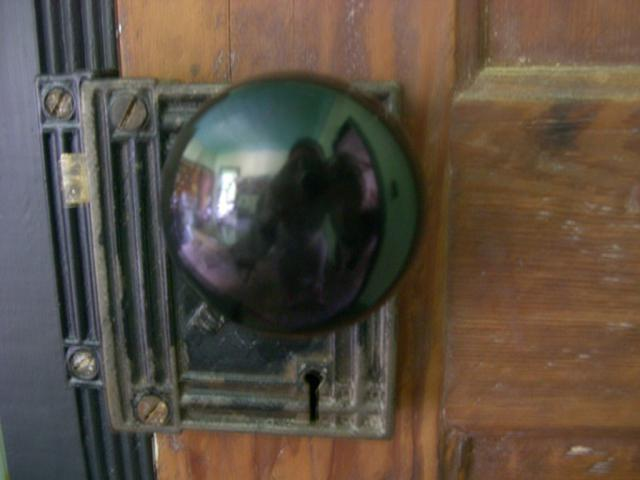Door-handle: (80, 71, 423, 439)
